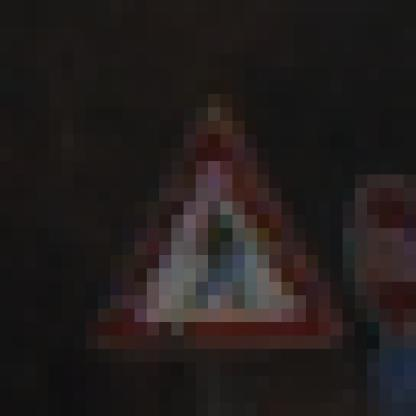crosswalk: (72, 65, 352, 381)
